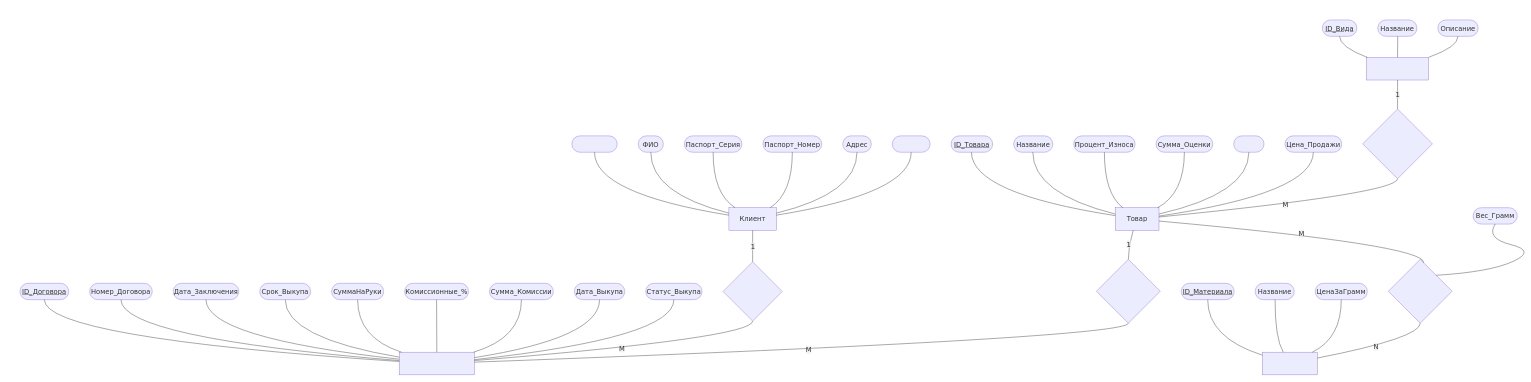
Some shapes in this 1531 by 382 pixel diagram are drawn without their labels. The shapes that lost their labels are listed below. From the top down, each one's centre as x and y in pixels, then its label:
At [1397,68]: "Вид_Товара".
At [594,143]: "ID_Клиента".
At [911,143]: "Телефон".
At [1248,143]: "Статус".
At [1397,144]: "Относится_К".
At [752,291]: "Заключает".
At [1128,291]: "Оформляет".
At [1420,291]: "Состоит_Из".
At [436,363]: "Договор_Залога".
At [1289,363]: "Материал".
